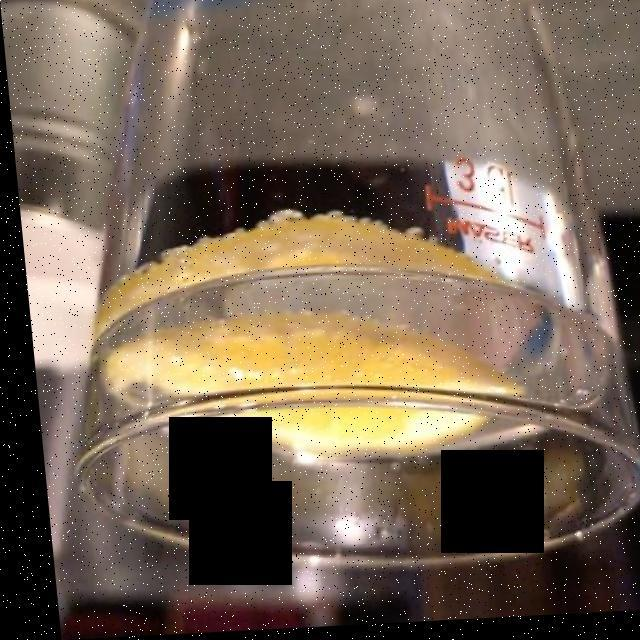water: (96, 167, 585, 472)
